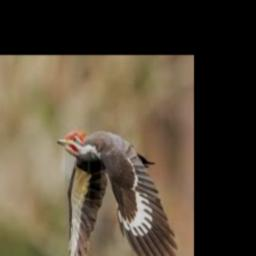Woodpecker: (57, 130, 178, 256)
